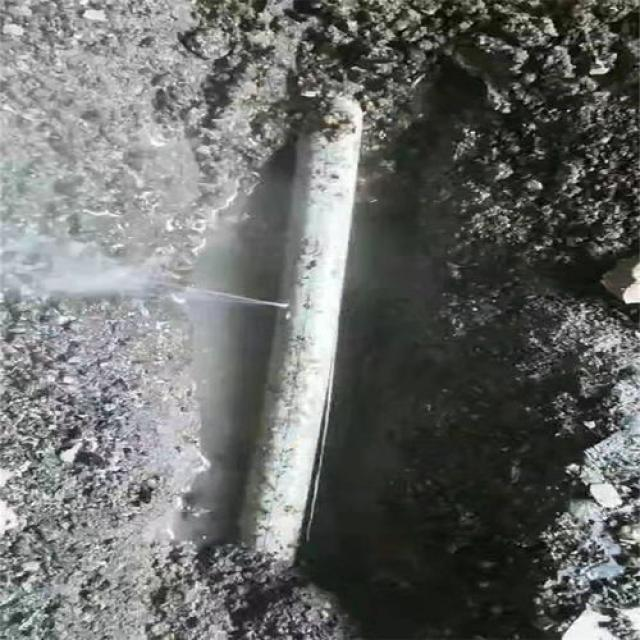Leak: (268, 295, 308, 323)
